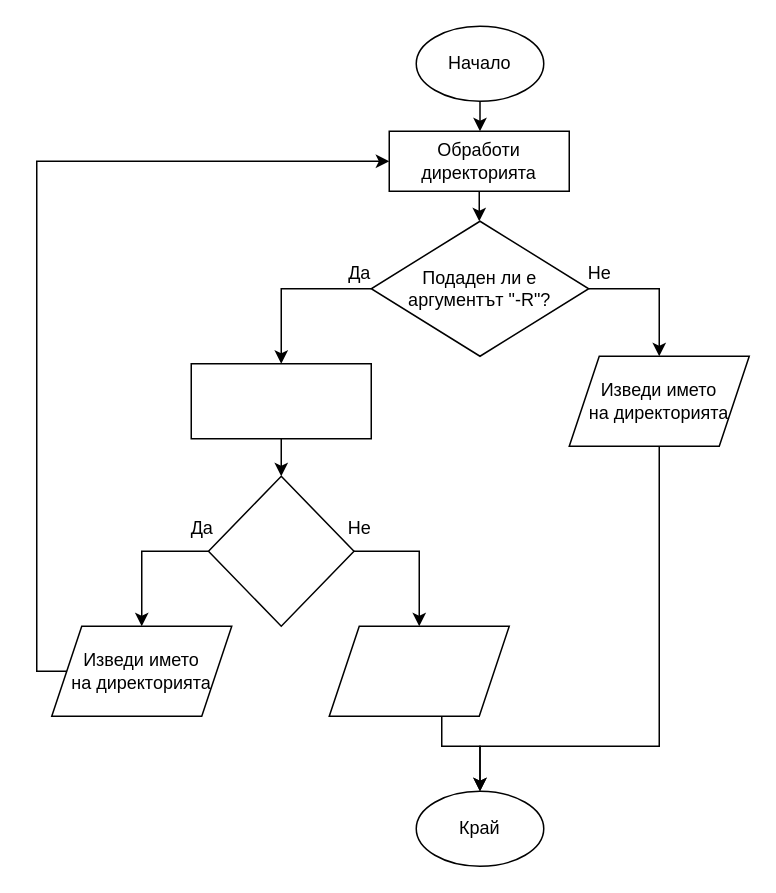
Some shapes in this 776 by 893 pixel diagram are drawn without their labels. The centre of each missing label's shape, as x and y in pixels:
Изведи информацията за файла: the point at 418,670
Отвори директорията: the point at 280,400
Файлът директория ли е?: the point at 280,550
